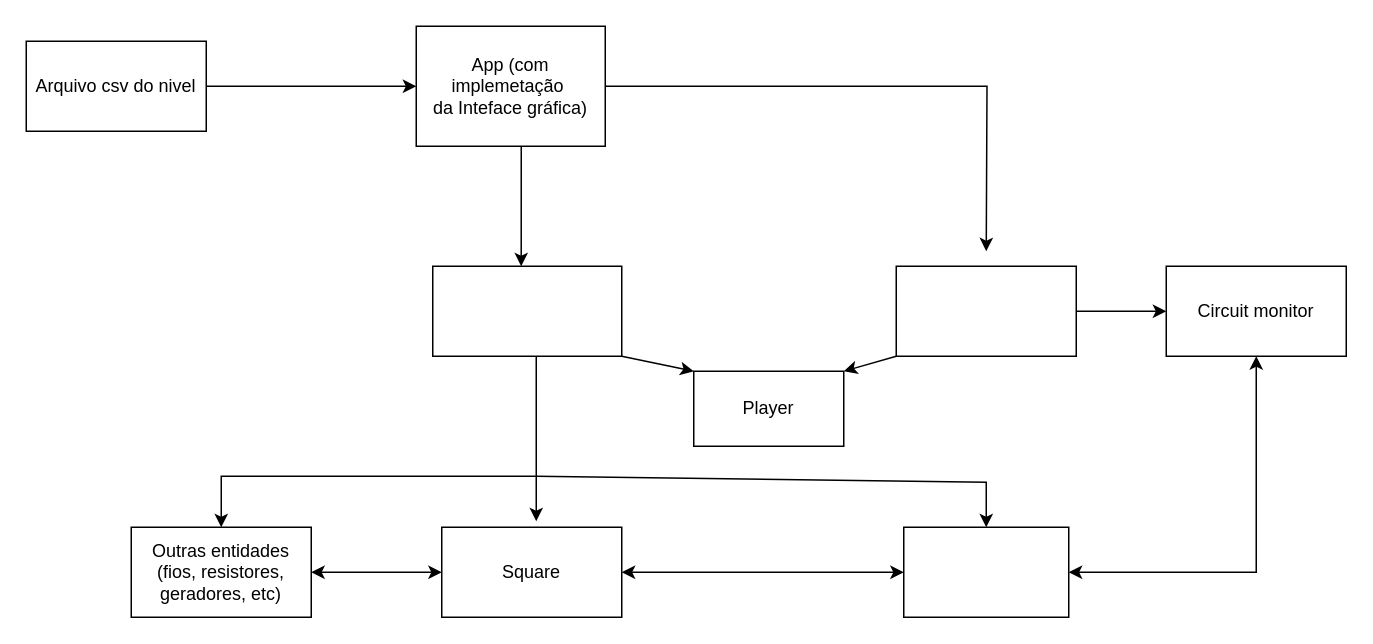
Some shapes in this 1373 by 644 pixel diagram are drawn without their labels. Each missing label, with the centre of its shape:
Controller: point 985,310
Map: point 985,571
Mapmaker: point 526,310
